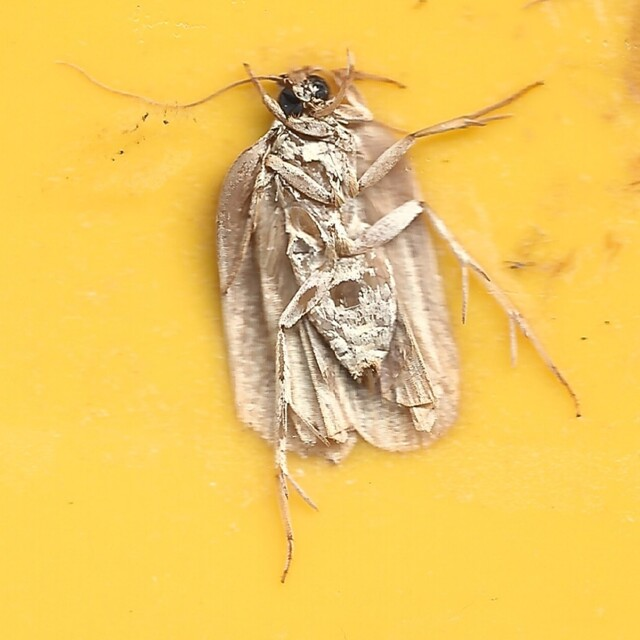Lepidoptera: (56, 58, 584, 582)
